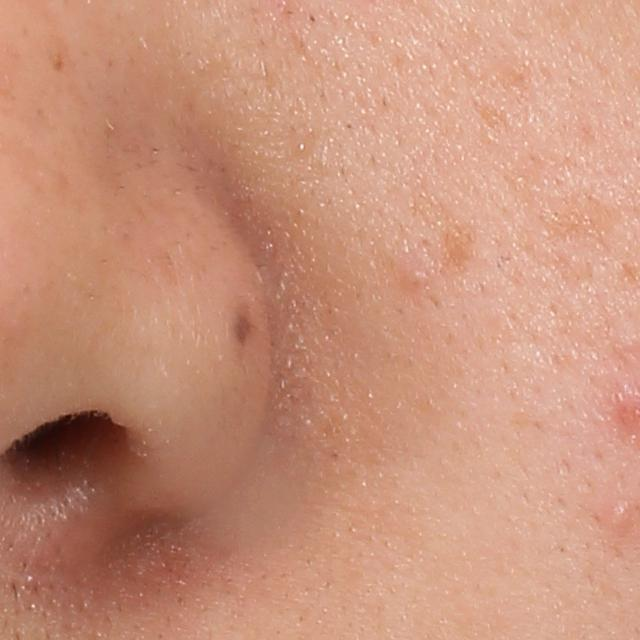comedo: (401, 264, 427, 292)
nevus: (40, 36, 84, 84), (234, 309, 256, 343)
papule: (608, 500, 637, 529)
